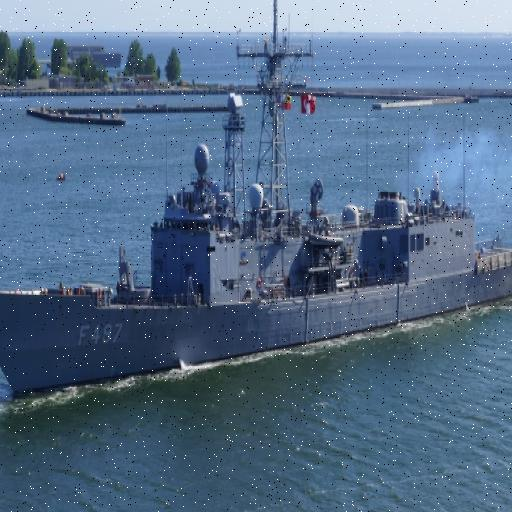Fragata: (1, 1, 512, 414)
